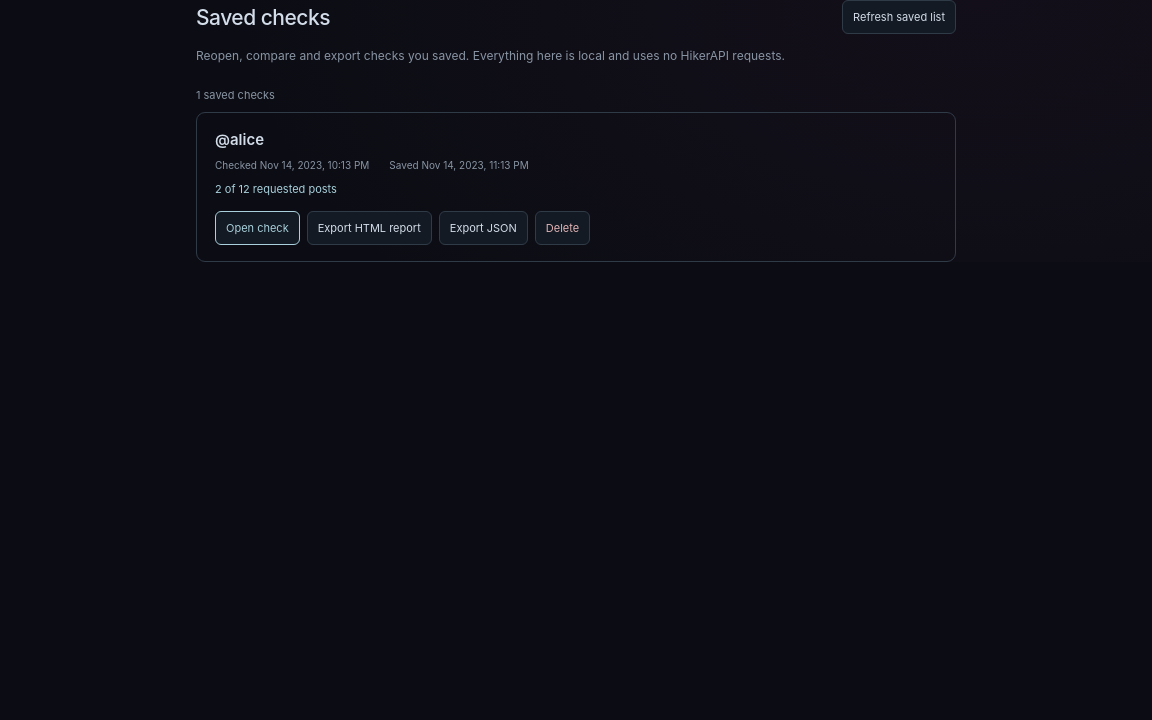
saved checks view › requires inline deletion confirmation and lets cancellation keep the saved check
What coordinates should you click on to do the following:
click the button "Delete"
I would click on:
 (562, 228)
Its box is [535, 211, 590, 245].
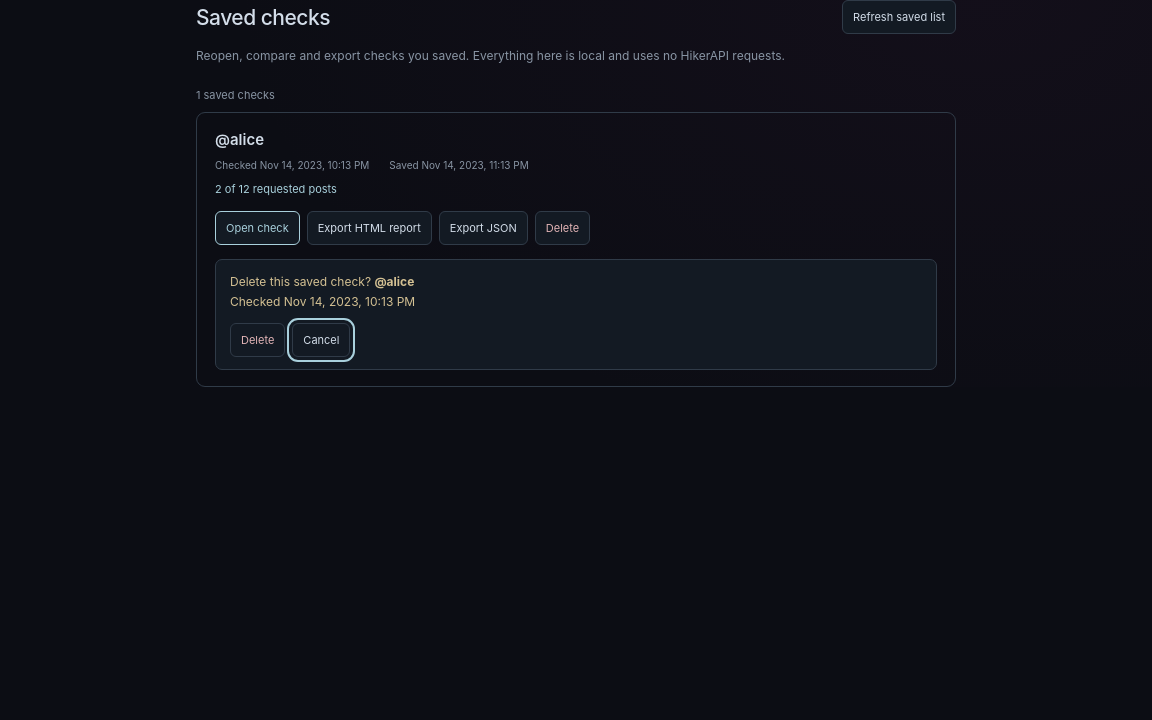
Now the dialog shows "Delete this saved check?", box [230, 274, 374, 289]
What coordinates should you click on to do the following:
click the button "Cancel"
I would click on:
 (321, 340)
Its box is [292, 323, 350, 357].
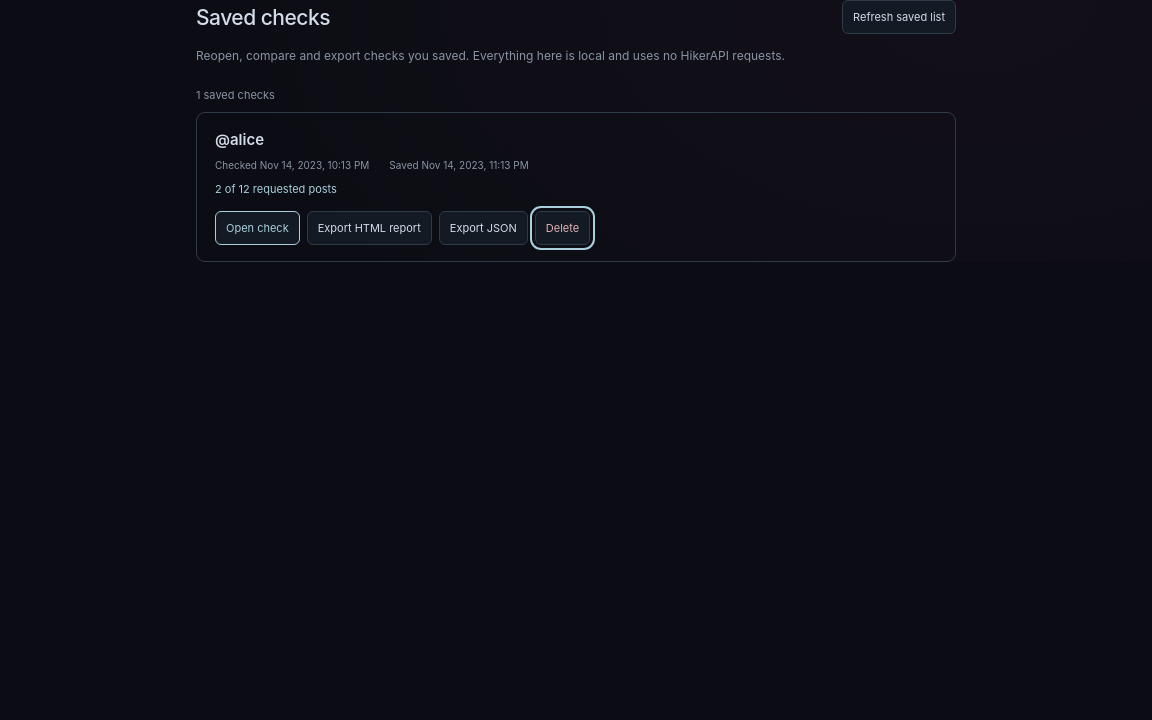
What coordinates should you click on to do the following:
click the button "Delete"
I would click on:
 (562, 228)
Its box is [535, 211, 590, 245].
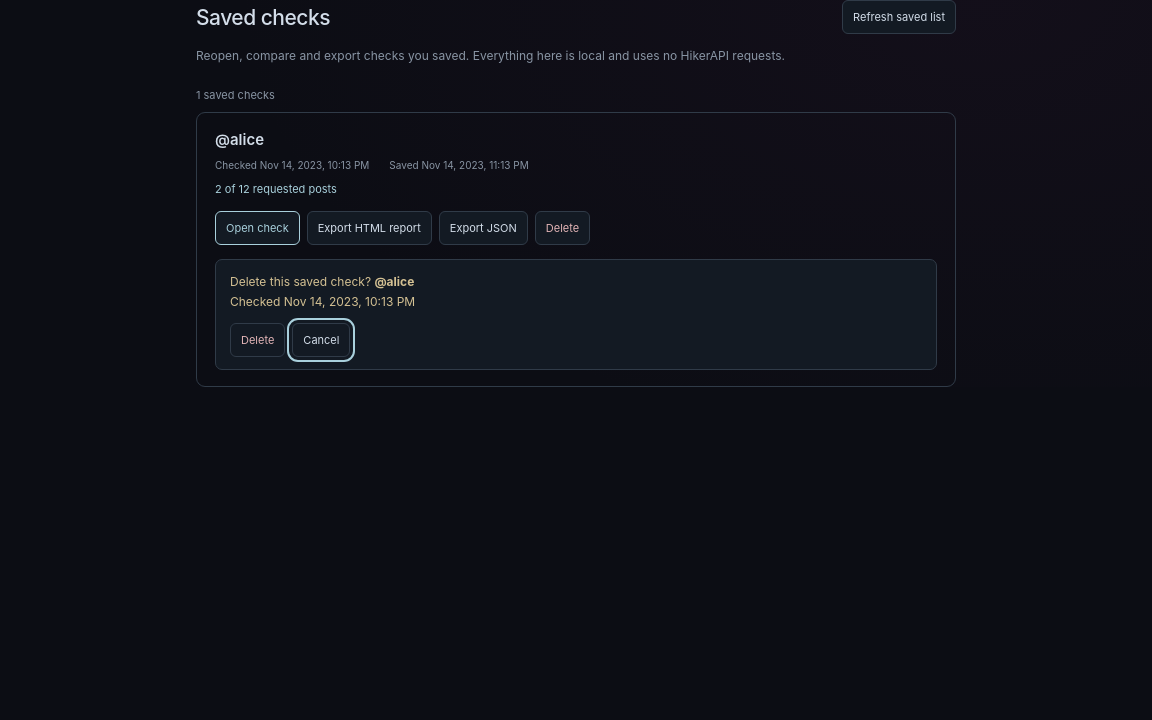
What coordinates should you click on to do the following:
click the button "Delete" below "Delete this saved check?"
I would click on:
 (258, 340)
Its box is [230, 323, 285, 357].
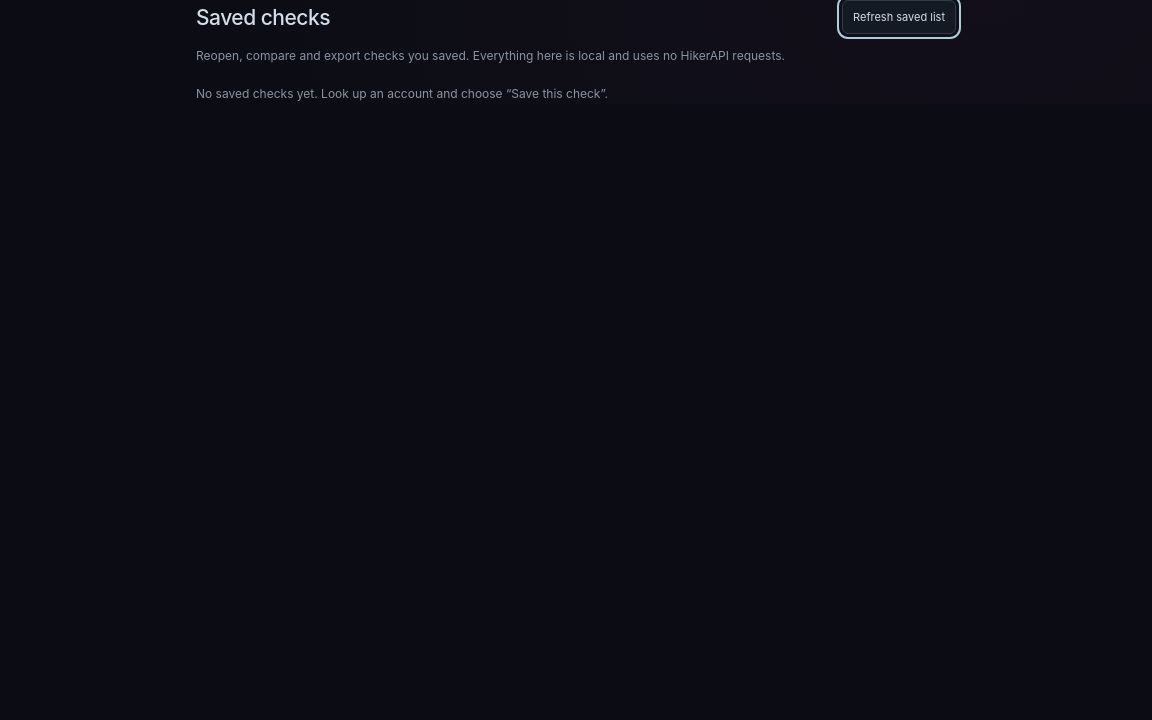
Now the text "No saved checks yet. Look up an account and choose “Save this check”." is shown, box [196, 86, 608, 101]
